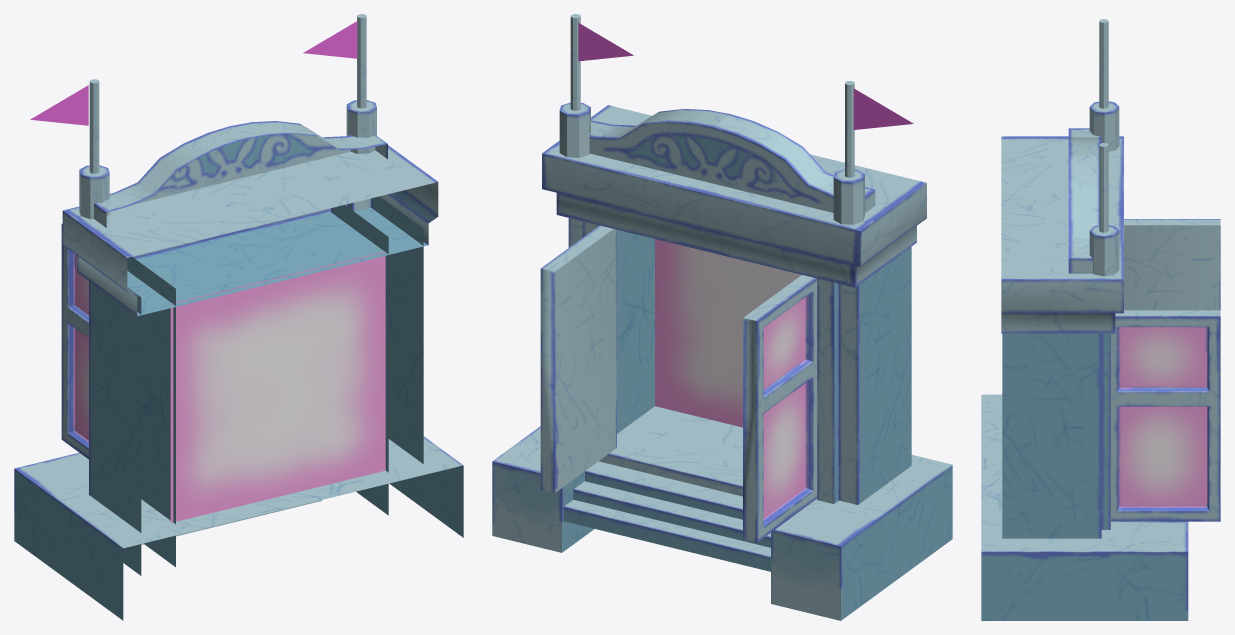
File: Goal_Open.fbx
3 renders of one model, left to right at view 1: azimuth 30°, elevation 25°; view 2: azimuth 150°, elevation 25°; view 3: azimuth 270°, elevation 25°, orthographic. The views are drawn at different scales.
Parts seen in each view (by area): view 1: polySurface3; view 2: polySurface3; view 3: polySurface3.
Part boxes in pixels (x1,y1,x2,y2): polySurface3: (14,14,463,620); polySurface3: (492,14,952,620); polySurface3: (981,19,1220,620).
Bounding box in the file's own units: 1.19 × 1.5 × 0.709.
Materials: 1 (1 with a texture image).
